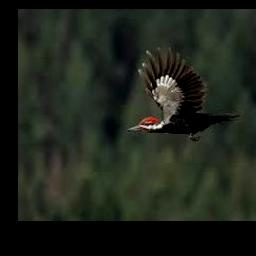Woodpecker: (127, 46, 240, 142)
